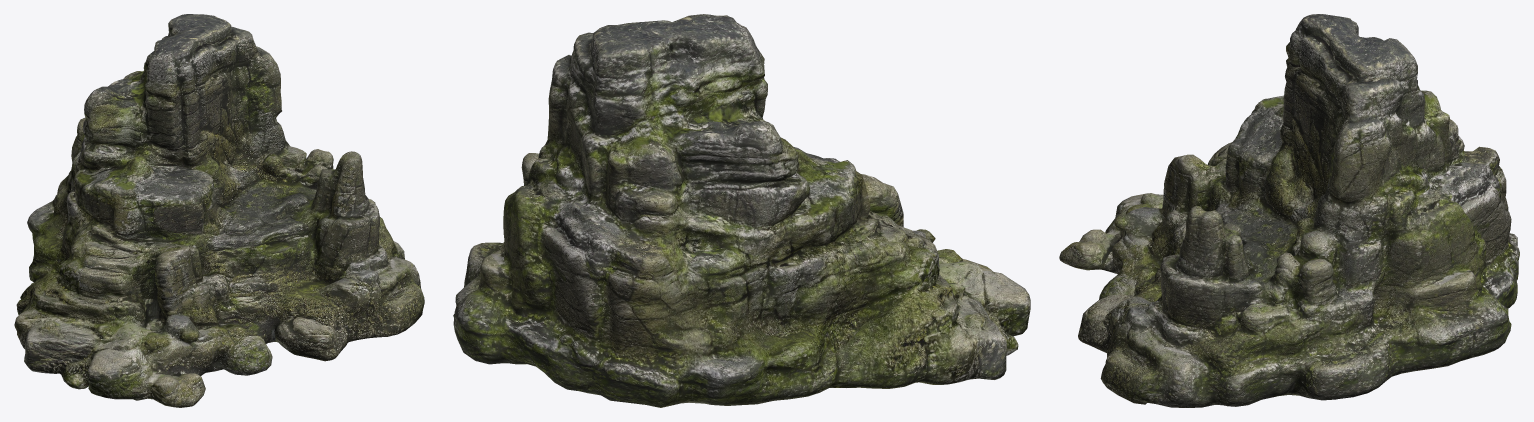
Rendered from sea_stack.glb.
3 views of the same model, side by side, from view 1: azimuth 30°, elevation 25°; view 2: azimuth 150°, elevation 25°; view 3: azimuth 270°, elevation 25° (orthographic). The views are drawn at different scales.
Parts seen in each view (by area): view 1: sea_stack; view 2: sea_stack; view 3: sea_stack.
Part boxes in pixels (x1,y1,x2,y2): sea_stack: (14, 14, 424, 407); sea_stack: (453, 14, 1030, 407); sea_stack: (1059, 14, 1519, 407).
Size of the model in its own units: 1.9 by 1.25 by 1.73.
1 material, 1 textured.
